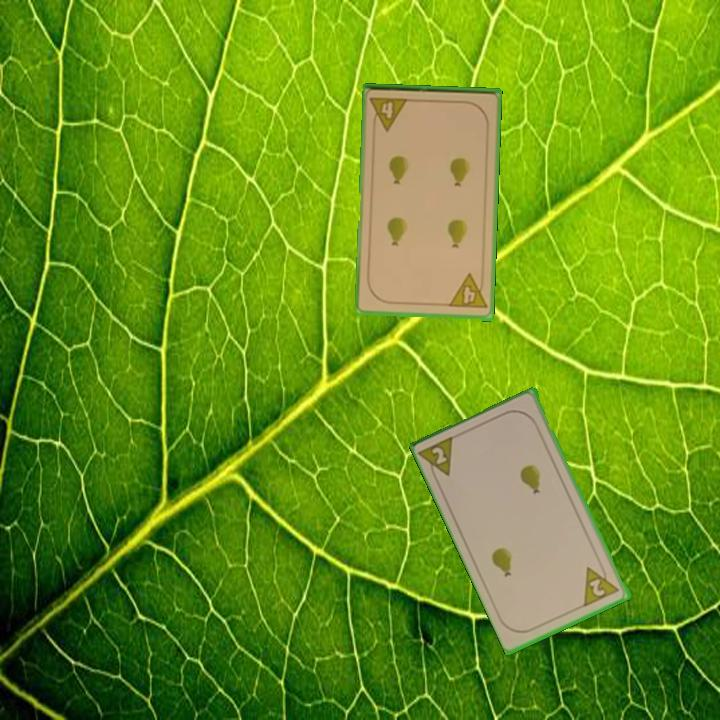2p: (417, 432, 459, 485), (580, 559, 622, 609)
4p: (445, 271, 490, 312), (367, 94, 411, 133)
